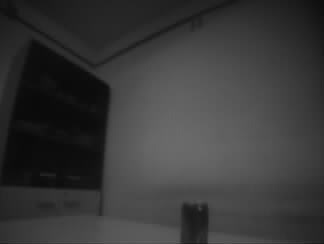Tin can: (179, 200, 209, 244)
